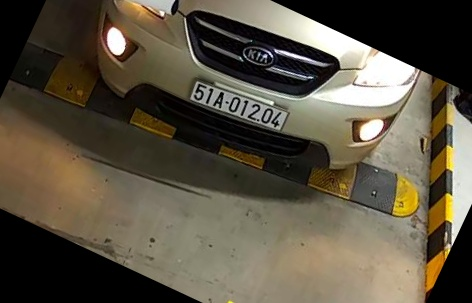plate: (183, 76, 294, 134)
